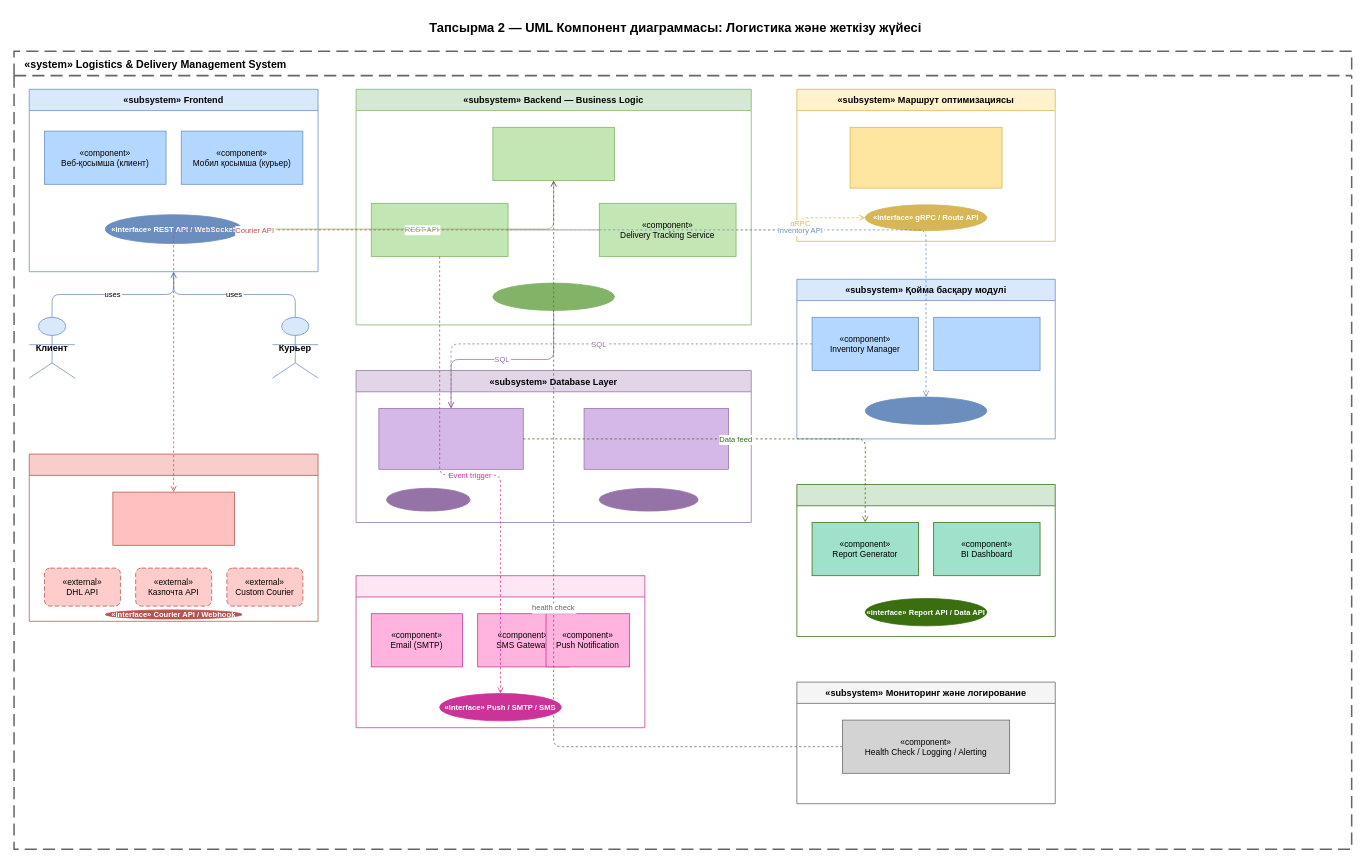
The diagram is 1365 pixels wide and 863 high, and some of its shapes have lost their labels. The box of each missing label's shape, as (x1, y1, x2, y2) in pixels:
«component» API Gateway: (492, 127, 614, 180)
«component» Courier API Adapter: (112, 491, 234, 545)
«component» Order Management Service: (370, 203, 508, 256)
«component» PostgreSQL (Orders / Clients / Routes): (378, 408, 523, 469)
«component» Redis Cache (Sessions / Tracking): (583, 408, 728, 469)
«component» Reservation Service: (933, 317, 1040, 370)
«component» Route Optimizer (Dijkstra / AI): (849, 127, 1002, 188)
«interface» Inventory API / SQL: (864, 396, 987, 424)
«interface» Redis API: (598, 488, 698, 511)
«interface» SQL: (386, 488, 470, 511)
«interface» SQL / ORM: (492, 282, 614, 310)
«subsystem» Аналитика жүйесі: (796, 484, 1055, 636)
«subsystem» Курьерлік интеграция модулі: (28, 453, 318, 621)
«subsystem» Хабарландыру жүйесі: (355, 575, 645, 728)
